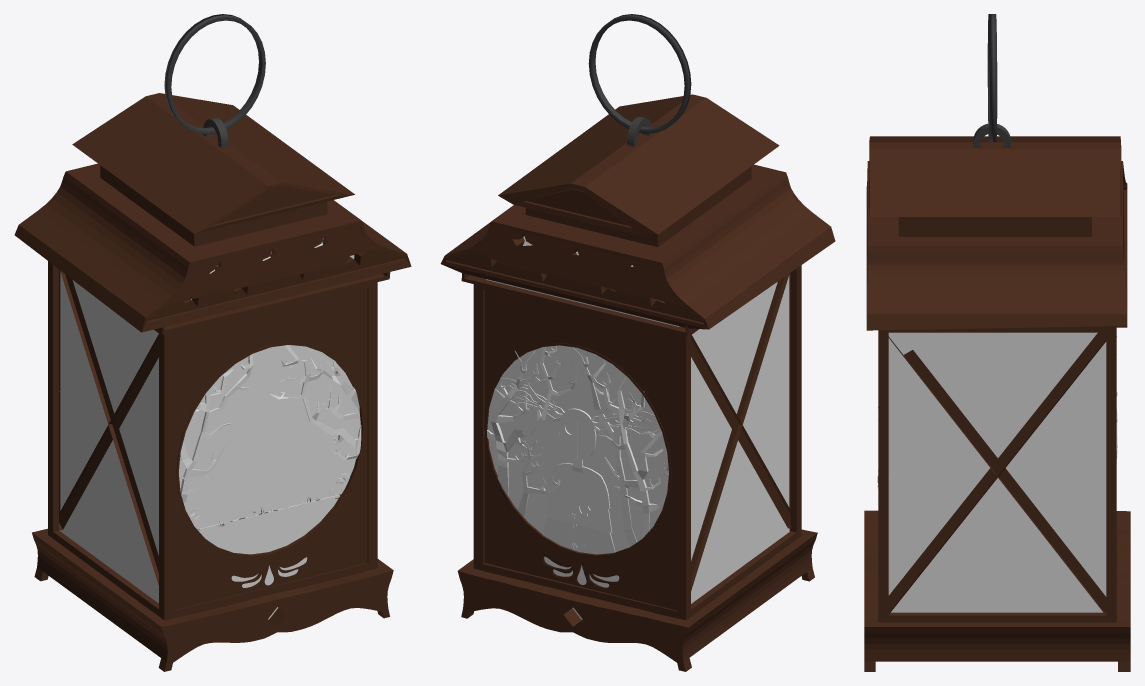
The model's file is Over the Garden Wall.fbx.
3 renders of one model, left to right at view 1: azimuth 30°, elevation 25°; view 2: azimuth 150°, elevation 25°; view 3: azimuth 270°, elevation 25°, orthographic. The views are drawn at different scales.
Parts seen in each view (by area): view 1: Cylinder; view 2: Cylinder; view 3: Cylinder.
Boxes of the visible parts, x1,y1,x2,y2 form: Cylinder: (14, 14, 411, 671); Cylinder: (440, 14, 835, 671); Cylinder: (864, 14, 1130, 671).
Size of the model in its own units: 171 by 353 by 143.
